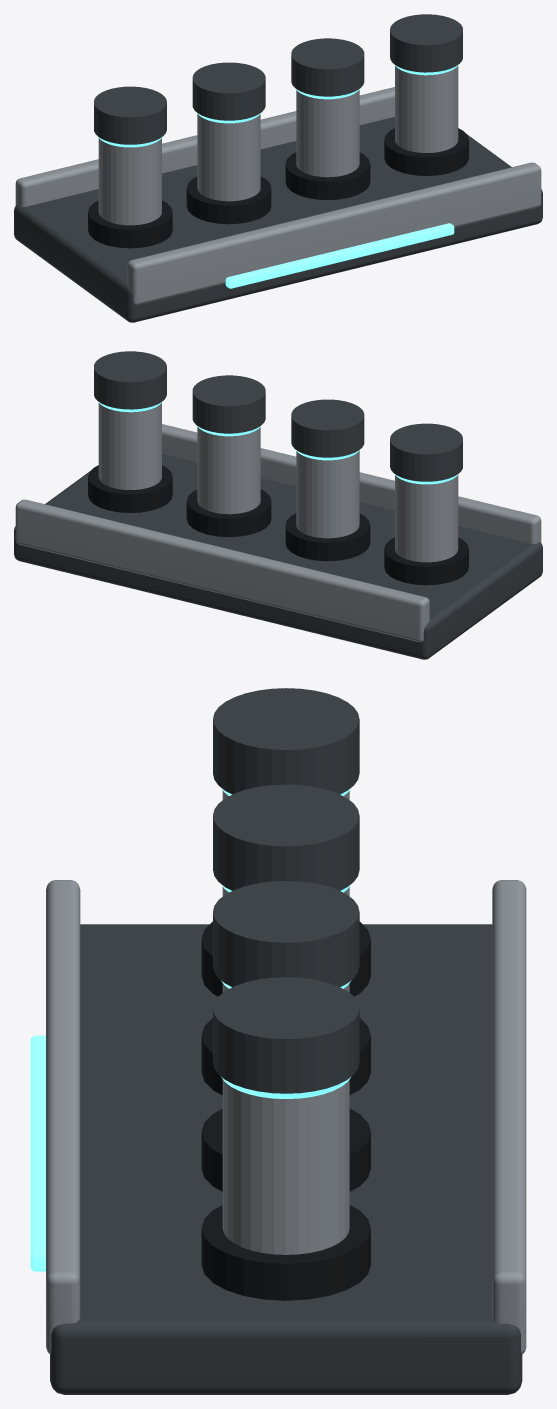
Rendered from ZH_ENV_V5_FOUR_SAMPLE_CARTRIDGES.fbx.
The picture shows the model from 3 angles, top to bottom: view 1: azimuth 30°, elevation 25°; view 2: azimuth 150°, elevation 25°; view 3: azimuth 270°, elevation 25°; orthographic projection. The views are drawn at different scales.
Visible parts, largest first — view 1: Sample tray | base.001, Sample tray | raised rim.002, Sample tray | raised rim.003, Sample cartridge | body.004, Sample cartridge | body.005, Sample cartridge | body.006, Sample cartridge | body.007, Sample cartridge | cap.006, Sample cartridge | cap.005, Sample cartridge | cap.004, Sample cartridge | cap.007, Sample tray | strip.001 (+4 smaller); view 2: Sample tray | base.001, Sample tray | raised rim.003, Sample tray | raised rim.002, Sample cartridge | body.004, Sample cartridge | body.005, Sample cartridge | body.006, Sample cartridge | body.007, Sample cartridge | cap.006, Sample cartridge | cap.005, Sample cartridge | cap.004, Sample cartridge | cap.007, Sample cartridge | socket.005 (+3 smaller); view 3: Sample tray | base.001, Sample cartridge | body.007, Sample tray | raised rim.003, Sample tray | raised rim.002, Sample cartridge | cap.007, Sample cartridge | cap.005, Sample cartridge | cap.006, Sample cartridge | cap.004, Sample cartridge | socket.007, Sample tray | strip.001, Sample cartridge | socket.006, Sample cartridge | socket.005 (+1 smaller).
Boxes of the visible parts, left/top/right/bottom form: Sample tray | base.001: left=14, top=117, right=542, bottom=322; Sample tray | raised rim.002: left=127, top=162, right=541, bottom=305; Sample tray | raised rim.003: left=15, top=87, right=394, bottom=206; Sample cartridge | body.004: left=98, top=138, right=161, bottom=225; Sample cartridge | body.005: left=197, top=114, right=260, bottom=201; Sample cartridge | body.006: left=296, top=90, right=359, bottom=177; Sample cartridge | body.007: left=395, top=66, right=458, bottom=152; Sample cartridge | cap.006: left=291, top=38, right=364, bottom=96; Sample cartridge | cap.005: left=192, top=62, right=265, bottom=120; Sample cartridge | cap.004: left=94, top=86, right=166, bottom=144; Sample cartridge | cap.007: left=390, top=14, right=462, bottom=72; Sample tray | strip.001: left=225, top=223, right=454, bottom=288; Sample tray | base.001: left=14, top=454, right=542, bottom=659; Sample tray | raised rim.003: left=15, top=499, right=429, bottom=642; Sample tray | raised rim.002: left=162, top=424, right=541, bottom=543; Sample cartridge | body.004: left=395, top=475, right=458, bottom=562; Sample cartridge | body.005: left=296, top=451, right=359, bottom=538; Sample cartridge | body.006: left=197, top=427, right=260, bottom=514; Sample cartridge | body.007: left=98, top=403, right=161, bottom=489; Sample cartridge | cap.006: left=192, top=375, right=265, bottom=433; Sample cartridge | cap.005: left=291, top=399, right=364, bottom=457; Sample cartridge | cap.004: left=390, top=423, right=462, bottom=481; Sample cartridge | cap.007: left=94, top=351, right=166, bottom=409; Sample cartridge | socket.005: left=285, top=513, right=370, bottom=561; Sample tray | base.001: left=50, top=924, right=522, bottom=1394; Sample cartridge | body.007: left=222, top=1079, right=349, bottom=1254; Sample tray | raised rim.003: left=492, top=880, right=526, bottom=1354; Sample tray | raised rim.002: left=46, top=880, right=80, bottom=1354; Sample cartridge | cap.007: left=213, top=977, right=359, bottom=1093; Sample cartridge | cap.005: left=213, top=784, right=359, bottom=890; Sample cartridge | cap.006: left=213, top=881, right=359, bottom=987; Sample cartridge | cap.004: left=213, top=688, right=359, bottom=794; Sample cartridge | socket.007: left=201, top=1205, right=370, bottom=1300; Sample tray | strip.001: left=30, top=1035, right=45, bottom=1271; Sample cartridge | socket.006: left=201, top=1108, right=370, bottom=1191; Sample cartridge | socket.005: left=201, top=1018, right=370, bottom=1095.
Size of the model in its own units: 0.59 by 0.2255 by 0.3045.
